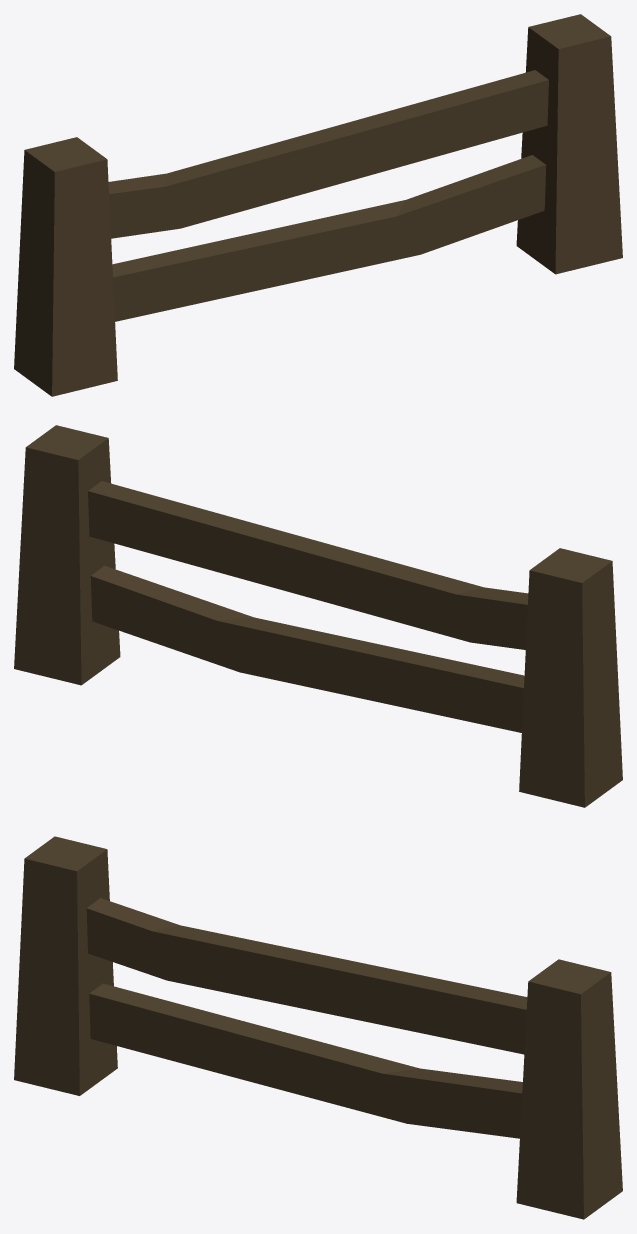
The model's file is fence.fbx.
The picture shows the model from 3 angles, top to bottom: view 1: azimuth 30°, elevation 25°; view 2: azimuth 150°, elevation 25°; view 3: azimuth 330°, elevation 25°; orthographic projection.
Visible parts, largest first — view 1: Cube.002; view 2: Cube.002; view 3: Cube.002.
Boxes of the visible parts, box(x1,y1,x2,y2) form: Cube.002: box(14, 14, 622, 396); Cube.002: box(14, 425, 622, 807); Cube.002: box(14, 836, 622, 1219).
Size of the model in its own units: 271 by 100 by 32.06.
